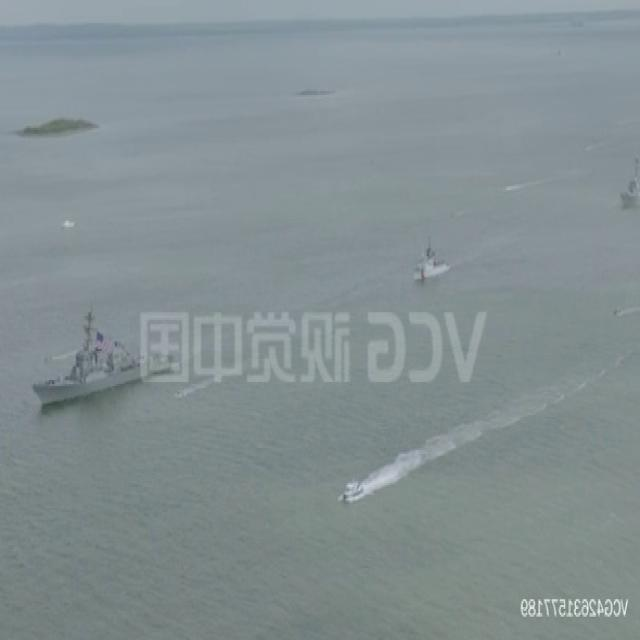houseboat: (341, 477, 365, 502), (610, 306, 624, 318), (62, 217, 77, 228)
navalvessels: (33, 305, 176, 408), (415, 235, 454, 282), (623, 153, 640, 207)
